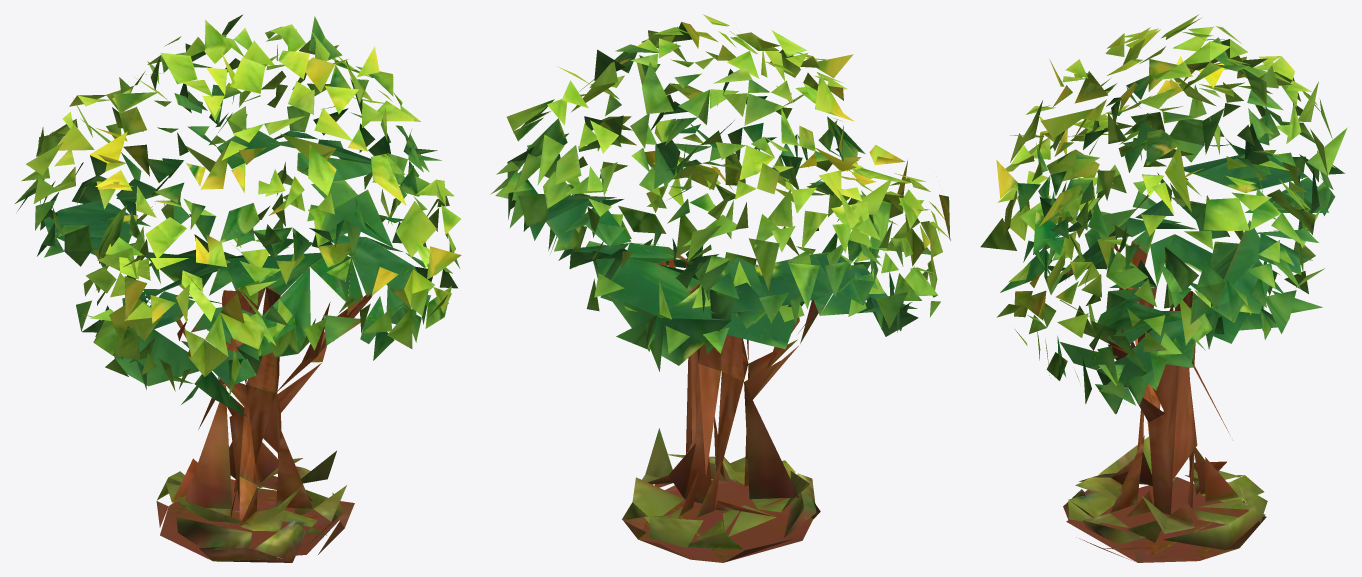
The model's file is camp_arbre2_loin.glb.
The picture shows the model from 3 angles, left to right: view 1: azimuth 30°, elevation 25°; view 2: azimuth 150°, elevation 25°; view 3: azimuth 270°, elevation 25°; orthographic projection. The views are drawn at different scales.
Visible parts, largest first — view 1: Mesh_0; view 2: Mesh_0; view 3: Mesh_0.
Part boxes in pixels (x1,y1,x2,y2): Mesh_0: (15, 14, 461, 562); Mesh_0: (490, 14, 950, 562); Mesh_0: (980, 14, 1347, 562).
Bounding box in the file's own units: 1.56 × 1.94 × 1.3.
Materials: 1 (1 with a texture image).
